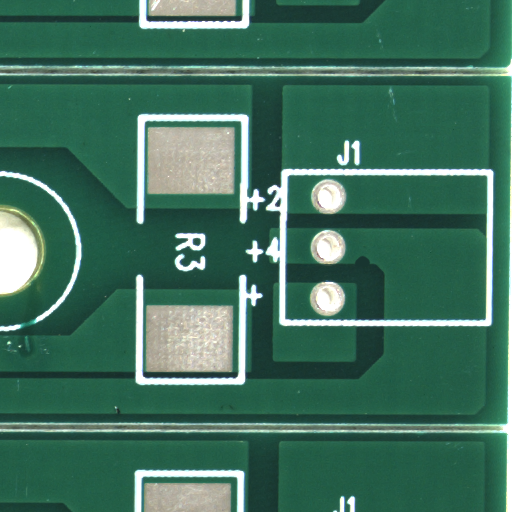Mouse_bite: (362, 261, 376, 271)
